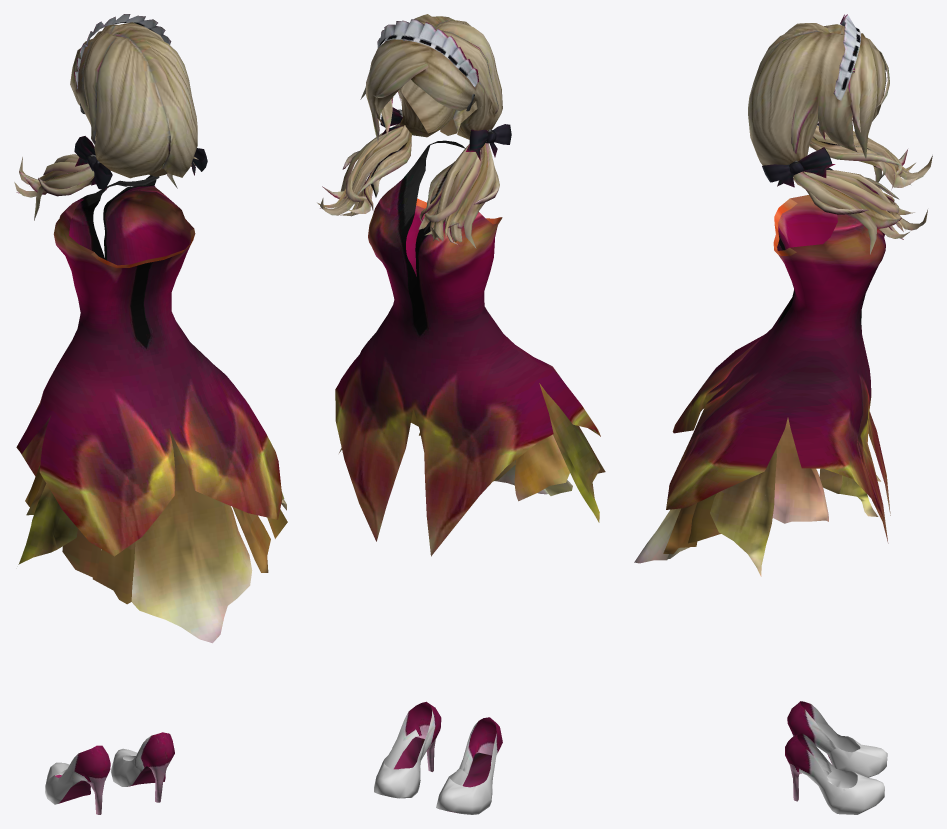
File: 4TH CLOTH BY CHOICE.fbx
3 views of the same model, side by side, from view 1: azimuth 30°, elevation 25°; view 2: azimuth 150°, elevation 25°; view 3: azimuth 270°, elevation 25° (orthographic).
Parts seen in each view (by area): view 1: victoria, Maid HAirs, 4TH CLOTH BY CHOICE; view 2: victoria, Maid HAirs, 4TH CLOTH BY CHOICE; view 3: victoria, Maid HAirs, 4TH CLOTH BY CHOICE.
Boxes of the visible parts, x1,y1,x2,y2 form: victoria: (16, 175, 287, 643); Maid HAirs: (14, 14, 207, 220); 4TH CLOTH BY CHOICE: (45, 732, 174, 814); victoria: (335, 140, 605, 556); Maid HAirs: (317, 14, 511, 248); 4TH CLOTH BY CHOICE: (374, 701, 502, 814); victoria: (634, 167, 890, 576); Maid HAirs: (748, 14, 932, 254); 4TH CLOTH BY CHOICE: (785, 701, 887, 814).
Bounding box in the file's own units: 52.96 × 147 × 51.3.
Materials: 2 (1 with a texture image).
